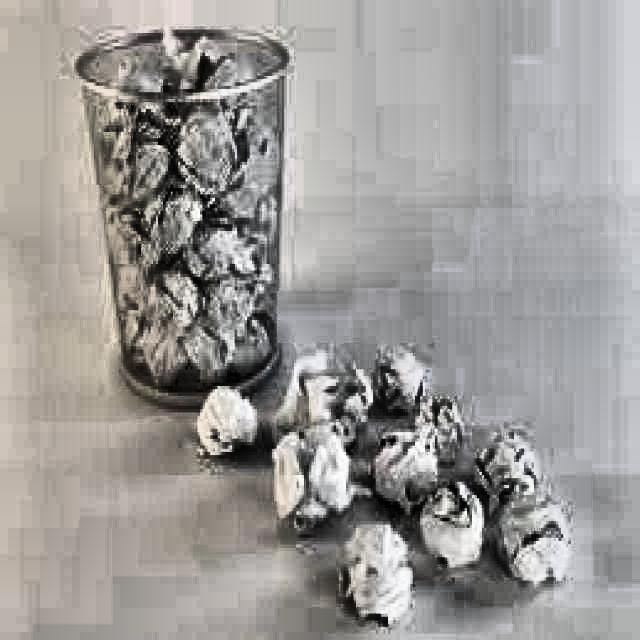Paper: (272, 346, 368, 452), (270, 423, 349, 535), (336, 521, 410, 627), (492, 491, 571, 584), (415, 479, 482, 578), (171, 99, 237, 195), (369, 426, 438, 505), (472, 426, 536, 508), (195, 380, 257, 456), (371, 337, 428, 413), (235, 103, 277, 192), (413, 386, 462, 462), (148, 267, 195, 340), (195, 264, 247, 327), (109, 53, 158, 119), (136, 323, 185, 386), (153, 192, 195, 258), (156, 27, 205, 80), (129, 132, 166, 198), (186, 323, 228, 376), (191, 208, 228, 267), (106, 205, 141, 267), (116, 257, 156, 310), (228, 307, 265, 360), (237, 224, 272, 277), (119, 310, 153, 363)
